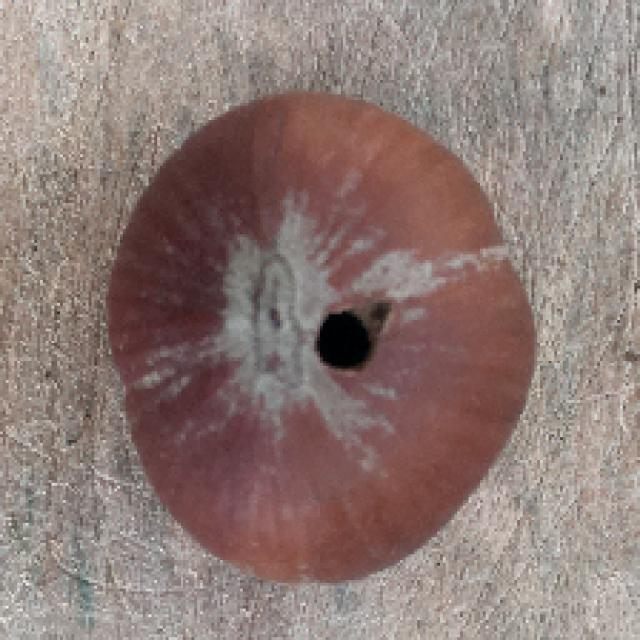damagedHazelnut: (107, 91, 538, 580)
